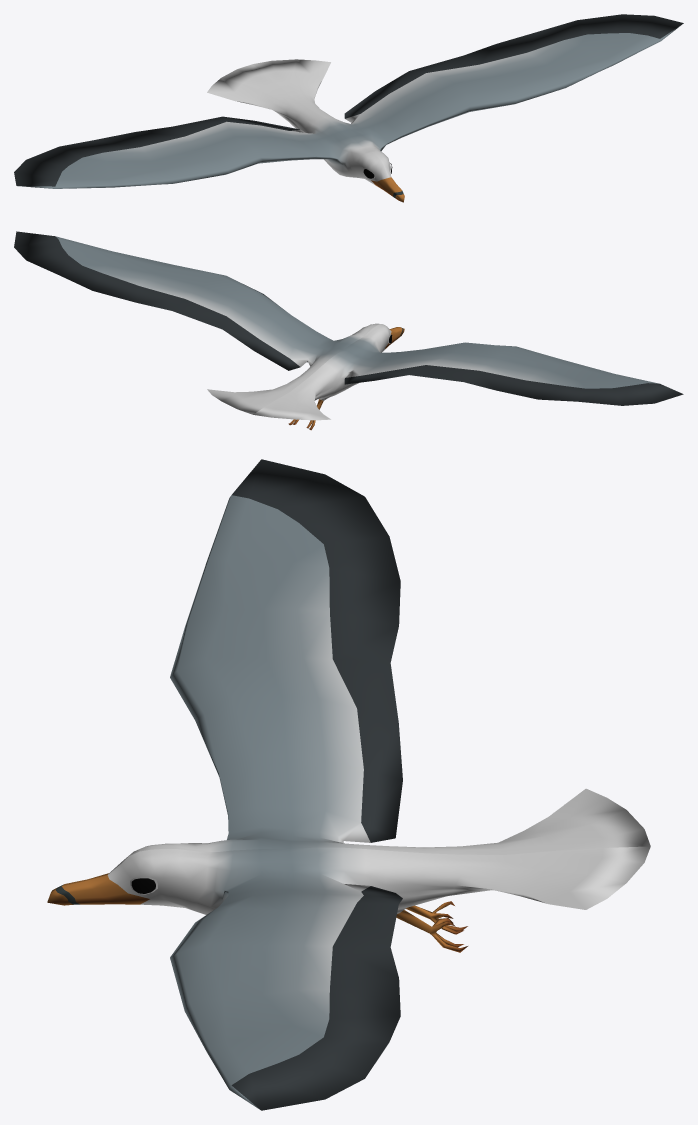
Rendered from kit-gull.glb.
3 renders of one model, top to bottom at view 1: azimuth 30°, elevation 25°; view 2: azimuth 150°, elevation 25°; view 3: azimuth 270°, elevation 25°, orthographic. The views are drawn at different scales.
Visible parts, largest first — view 1: base; view 2: base; view 3: base.
Boxes of the visible parts, x1,y1,x2,y2 form: base: [14, 14, 683, 202]; base: [14, 231, 683, 430]; base: [47, 459, 650, 1110].
Size of the model in its own units: 1.53 by 0.172 by 0.598.
